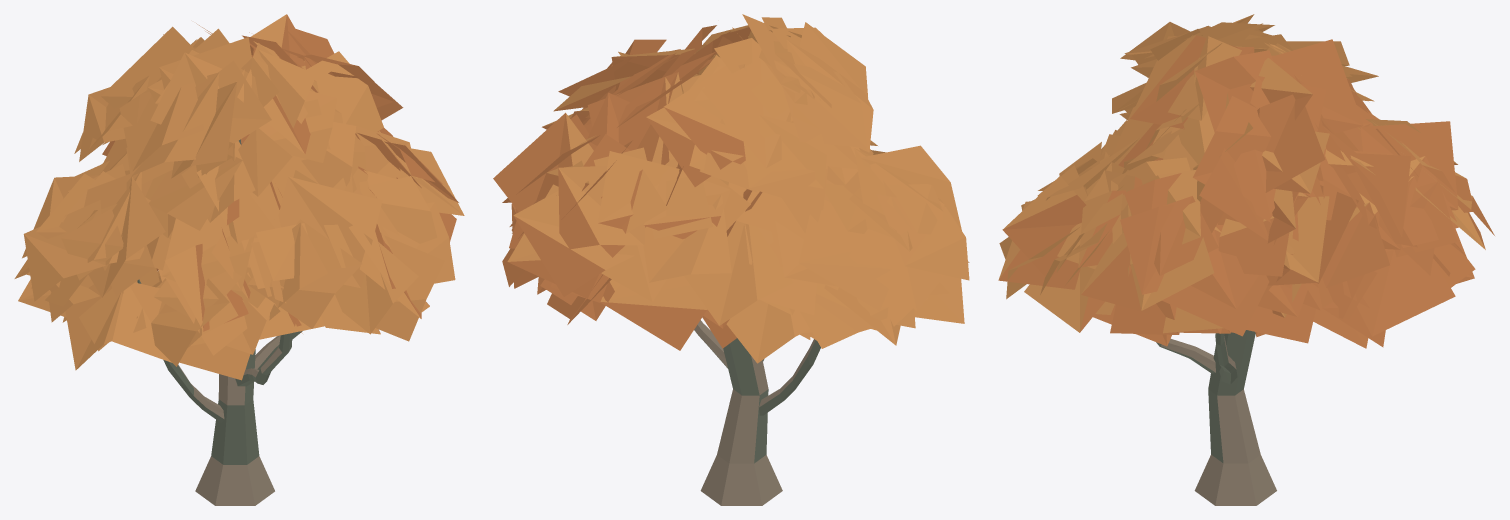
File: lightkeeper-bushy.glb
3 views of the same model, side by side, from view 1: azimuth 30°, elevation 25°; view 2: azimuth 150°, elevation 25°; view 3: azimuth 270°, elevation 25° (orthographic). The views are drawn at different scales.
Visible parts, largest first — view 1: canopy, trunk; view 2: canopy, trunk; view 3: canopy, trunk.
Part boxes in pixels (x1,y1,x2,y2): canopy: (14,14,464,380); trunk: (137,139,302,505); canopy: (493,14,969,363); trunk: (694,320,820,505); canopy: (998,14,1494,348); trunk: (1156,330,1276,505).
Size of the model in its own units: 0.9377 by 1 by 0.955.
